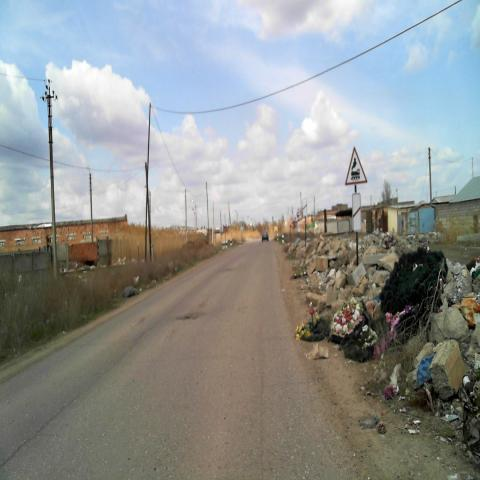1_2: (344, 143, 368, 185)
